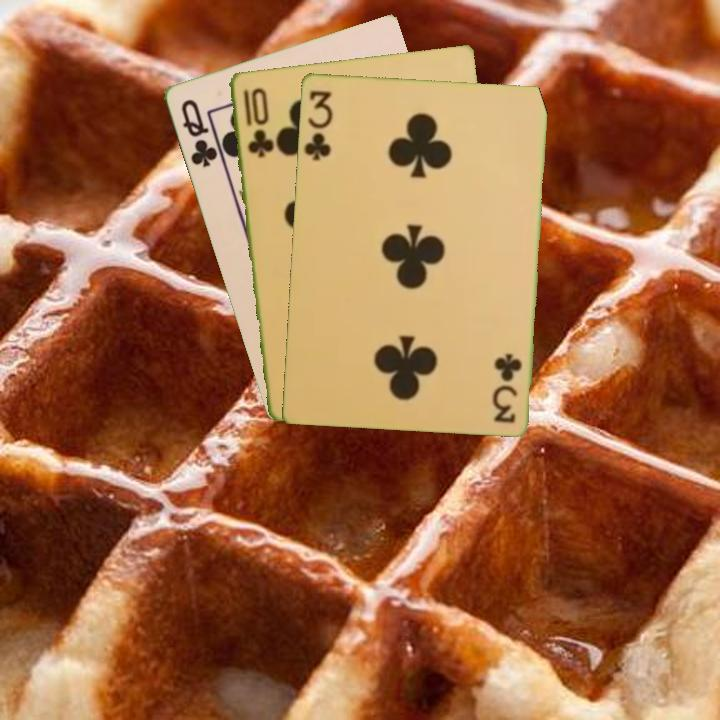10c: (239, 84, 274, 160)
3c: (300, 86, 335, 163), (490, 349, 525, 426)
Qc: (177, 95, 220, 171)
